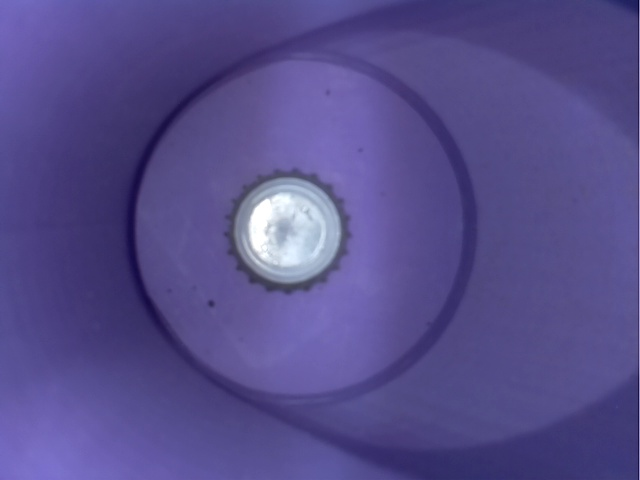capsule: (217, 160, 360, 293)
